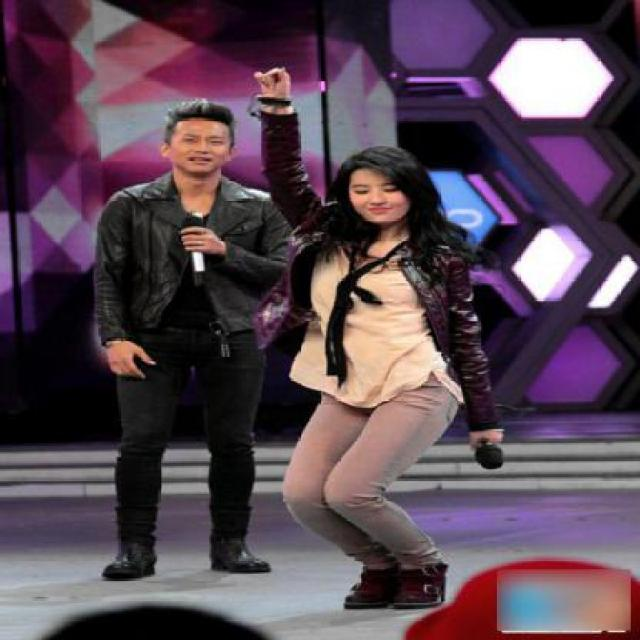Person: (252, 70, 470, 605), (84, 89, 264, 571)
